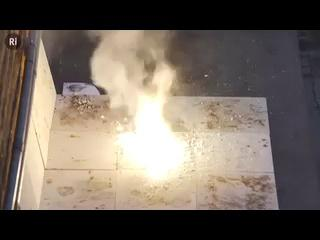Fire: (107, 52, 189, 186)
